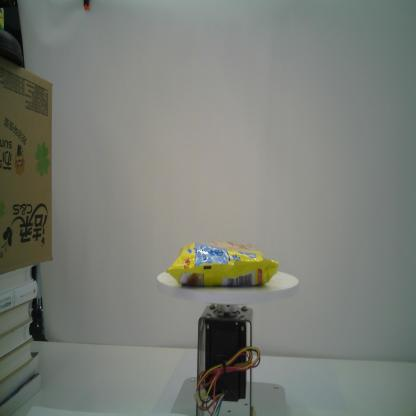Instant Noodles: (164, 240, 282, 288)
